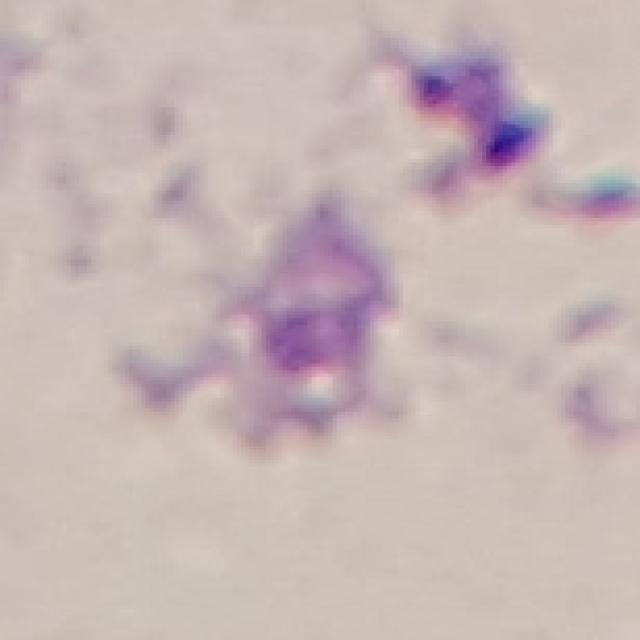non-sperm: (133, 197, 407, 453)
